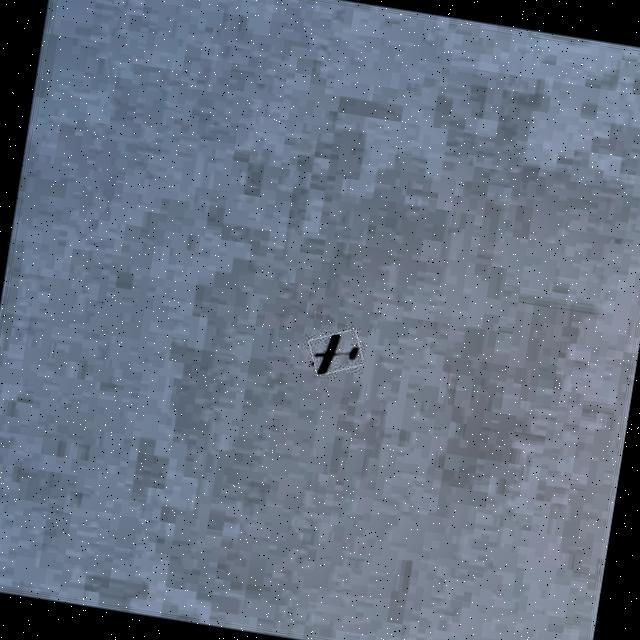iha: (317, 346, 334, 370)
